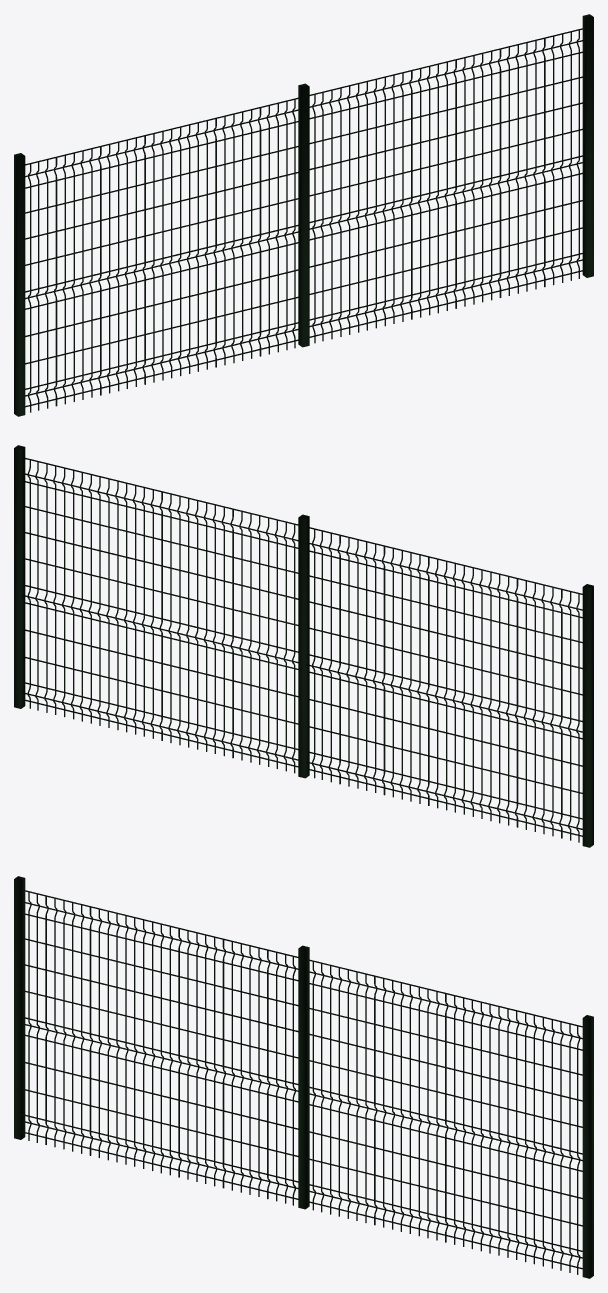
The model's file is 3d-fence-panel-model.glb.
The picture shows the model from 3 angles, top to bottom: view 1: azimuth 30°, elevation 25°; view 2: azimuth 150°, elevation 25°; view 3: azimuth 330°, elevation 25°; orthographic projection.
Parts seen in each view (by area): view 1: Node1; view 2: Node1; view 3: Node1.
Boxes of the visible parts, <box> form: Node1: <box>14,14,593,416</box>; Node1: <box>14,445,593,847</box>; Node1: <box>14,876,593,1278</box>.
Size of the model in its own units: 4.97 by 2.14 by 0.0619.
Materials: 1 (1 with a texture image).
